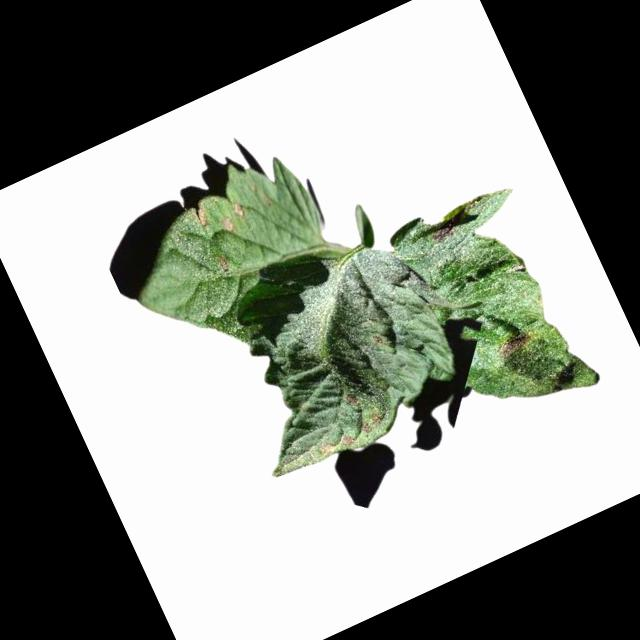Early_blight: (495, 329, 538, 363), (424, 222, 457, 250), (189, 200, 213, 230), (213, 252, 232, 275), (230, 199, 249, 219), (341, 390, 360, 409), (368, 411, 386, 430), (221, 213, 237, 234), (359, 419, 374, 437), (339, 432, 355, 448)
